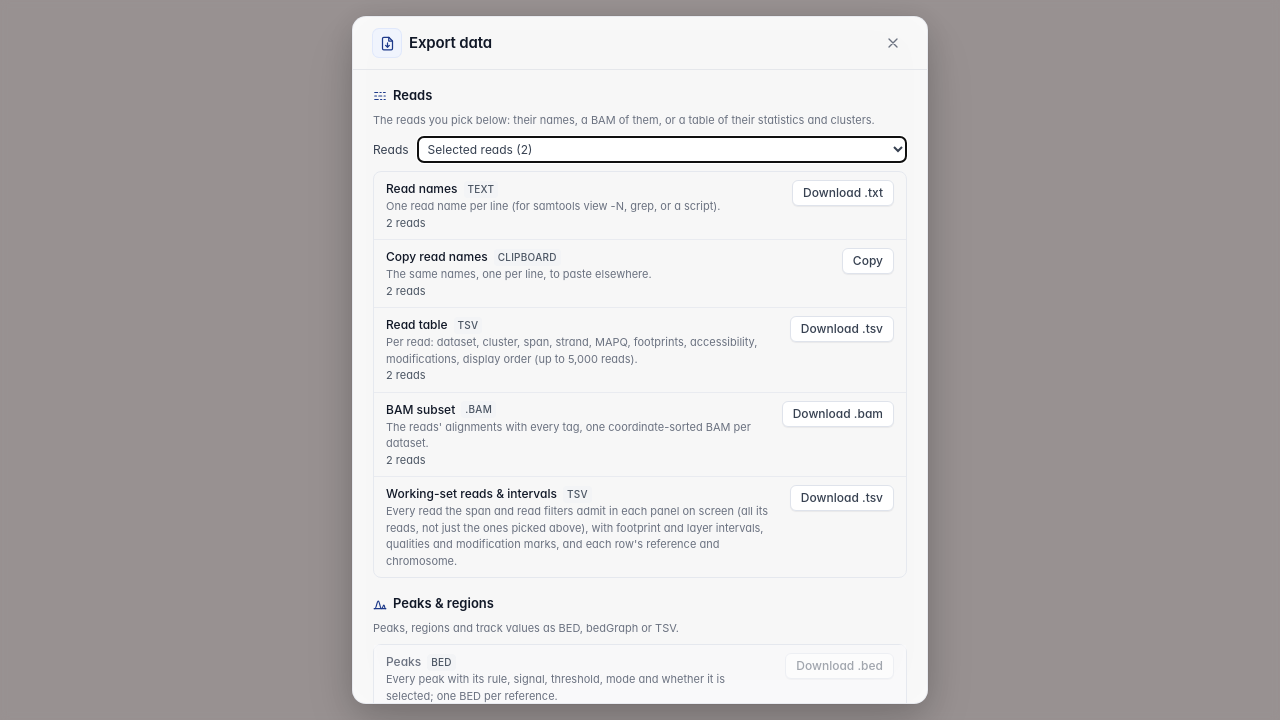
Export data dialog › downloads a BAM subset per BAM dataset and says what was saved
This screenshot has width=1280, height=720.
Click the button with test id "export-entry-read-bam-button" at {"x": 838, "y": 414}, box [782,400,894,426]
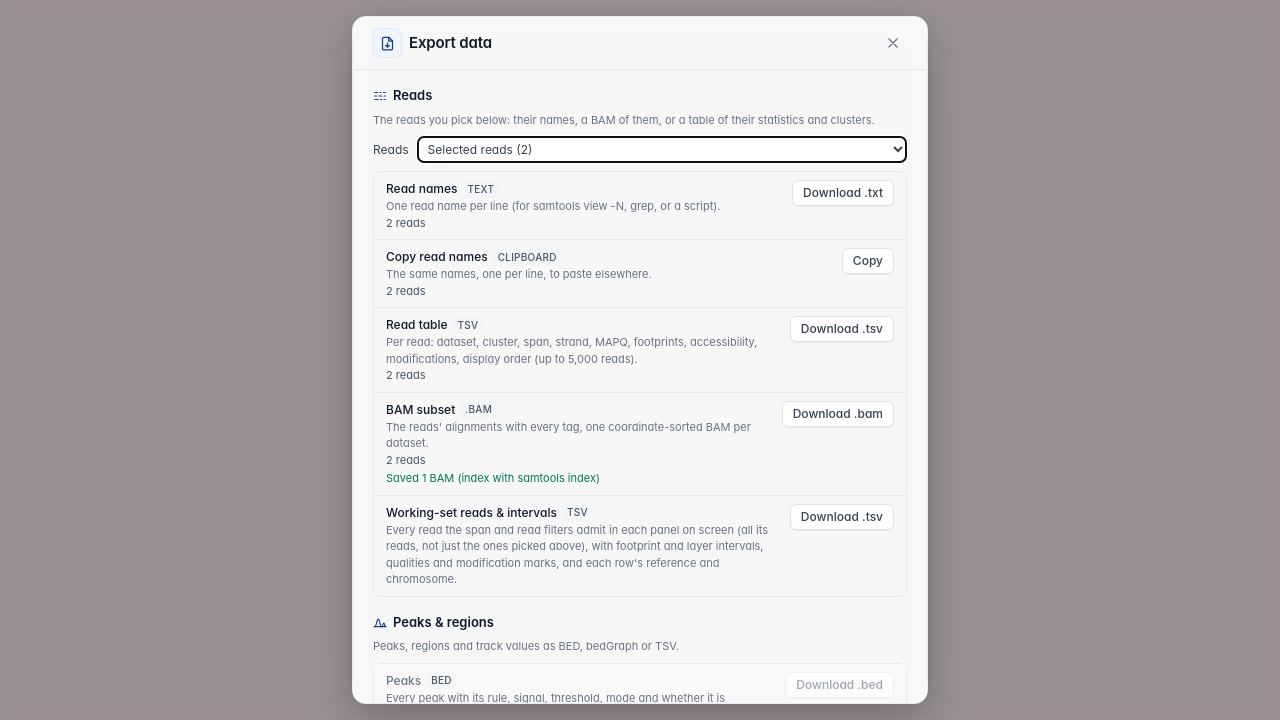
Expected: the element with test id "export-entry-read-bam" shows "Saved 1 BAM", [386,471,600,485]
